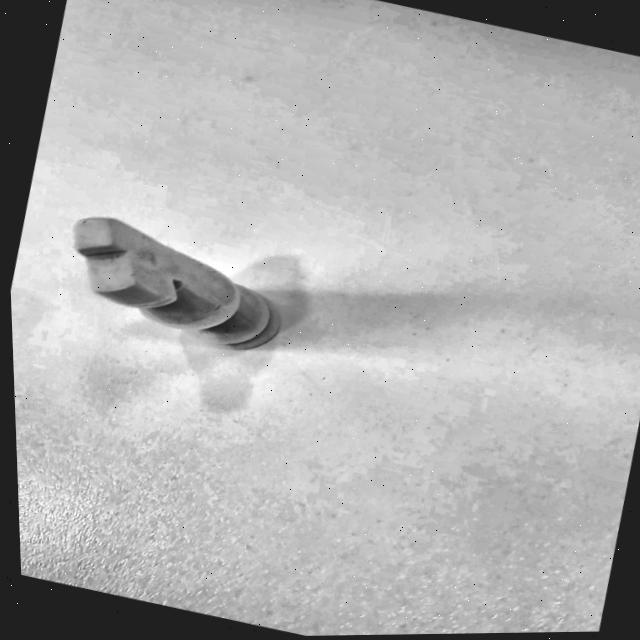white-knight: (35, 189, 336, 394)
